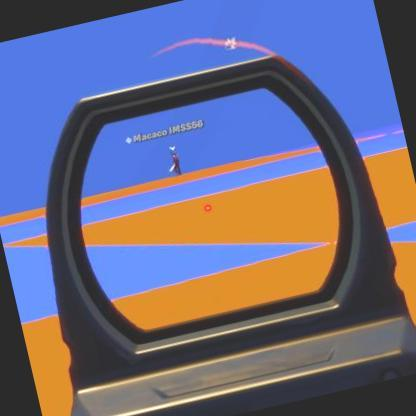person: (166, 148, 183, 175)
